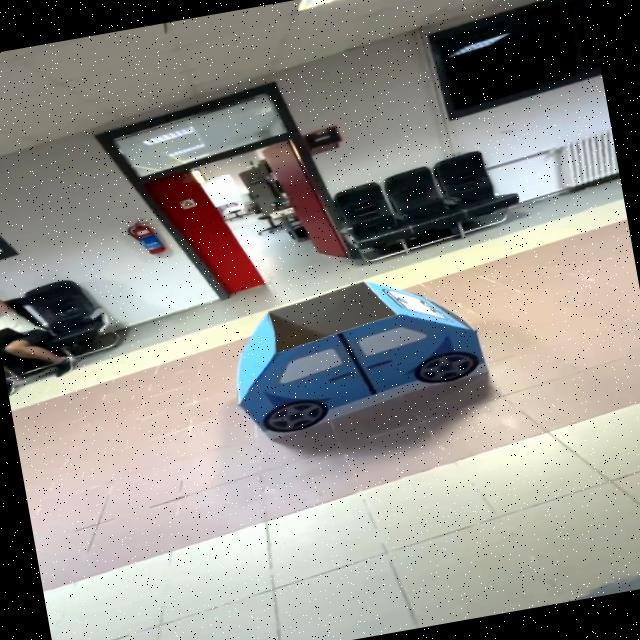blue_car: (201, 249, 523, 461)
